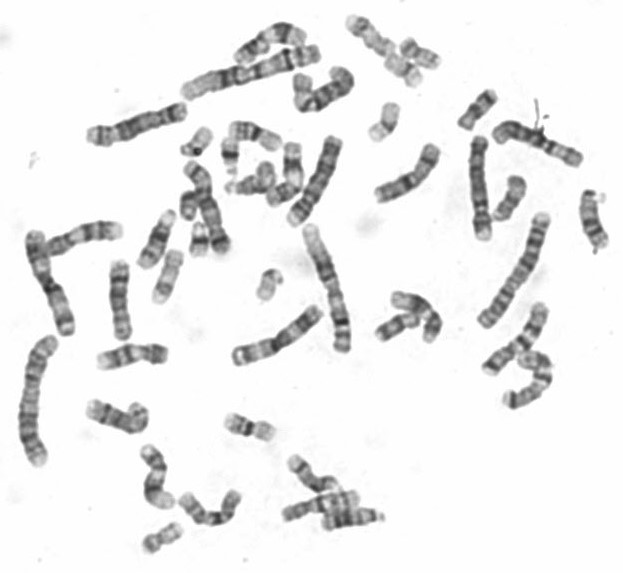chromosomes: (472, 207, 555, 333), (295, 219, 357, 358), (178, 45, 326, 100), (222, 301, 330, 372), (17, 227, 84, 340), (14, 331, 62, 475), (487, 118, 589, 176), (76, 99, 190, 149), (479, 299, 550, 377), (369, 136, 448, 206), (286, 134, 344, 227), (489, 344, 557, 417), (183, 158, 232, 251), (45, 214, 129, 263), (464, 131, 500, 245), (383, 286, 446, 350), (73, 393, 156, 438), (229, 19, 311, 64), (573, 184, 622, 258), (138, 441, 185, 515), (278, 487, 367, 526), (291, 63, 357, 115), (177, 483, 247, 531), (93, 338, 174, 376), (265, 140, 307, 210), (214, 406, 283, 448), (106, 255, 137, 343), (452, 84, 505, 135), (316, 502, 394, 536), (137, 208, 179, 269), (283, 454, 344, 495), (488, 170, 532, 225), (347, 12, 397, 60), (152, 246, 185, 306), (223, 160, 276, 197), (137, 520, 185, 559), (373, 310, 425, 344), (229, 117, 282, 150), (251, 263, 288, 309), (368, 101, 405, 144), (401, 35, 443, 72), (386, 52, 424, 91), (185, 124, 214, 159), (187, 219, 210, 263), (220, 133, 241, 176), (174, 188, 201, 220)
